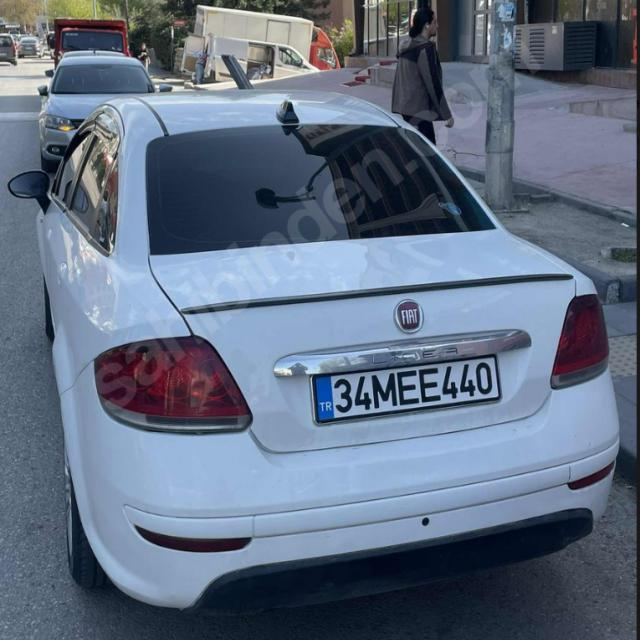fiat: (378, 284, 441, 344)
